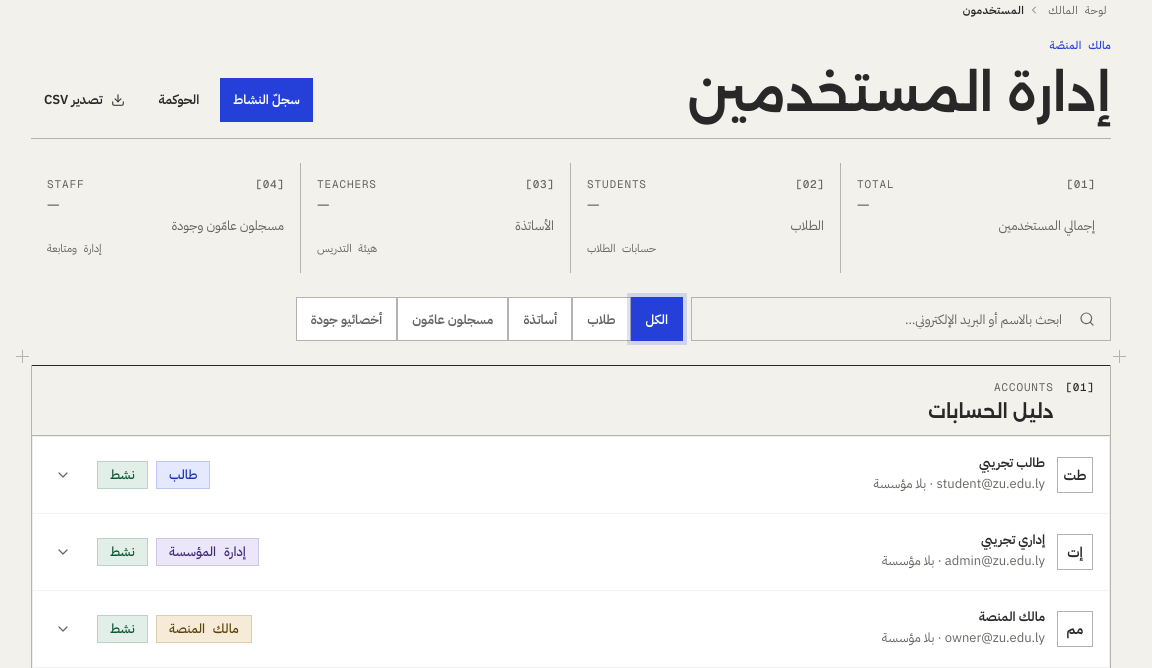
OwnerUsersPage — role picker (r154e) › opens a confirm dialog naming the specific transition on role change
This screenshot has width=1152, height=668.
Click the button named "إجراءات طالب تجريبي": [63, 475] box [41,453,85,497]
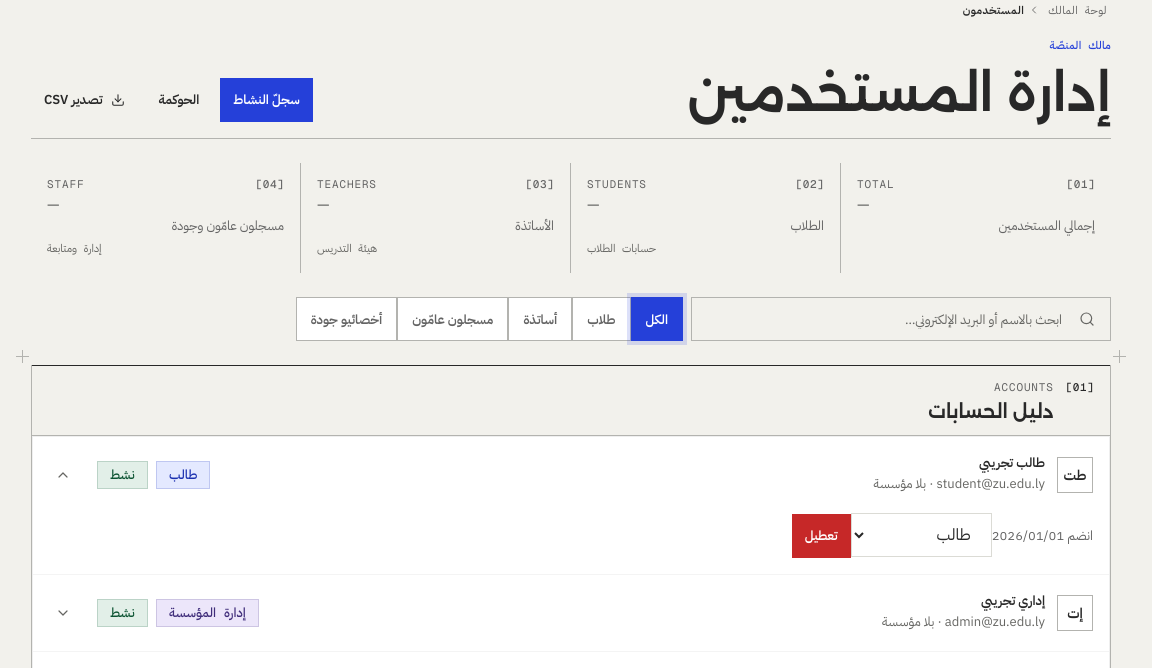
Select "أستاذ" in the dropdown named "دور طالب تجريبي": [921, 535] box [851,513,992,557]
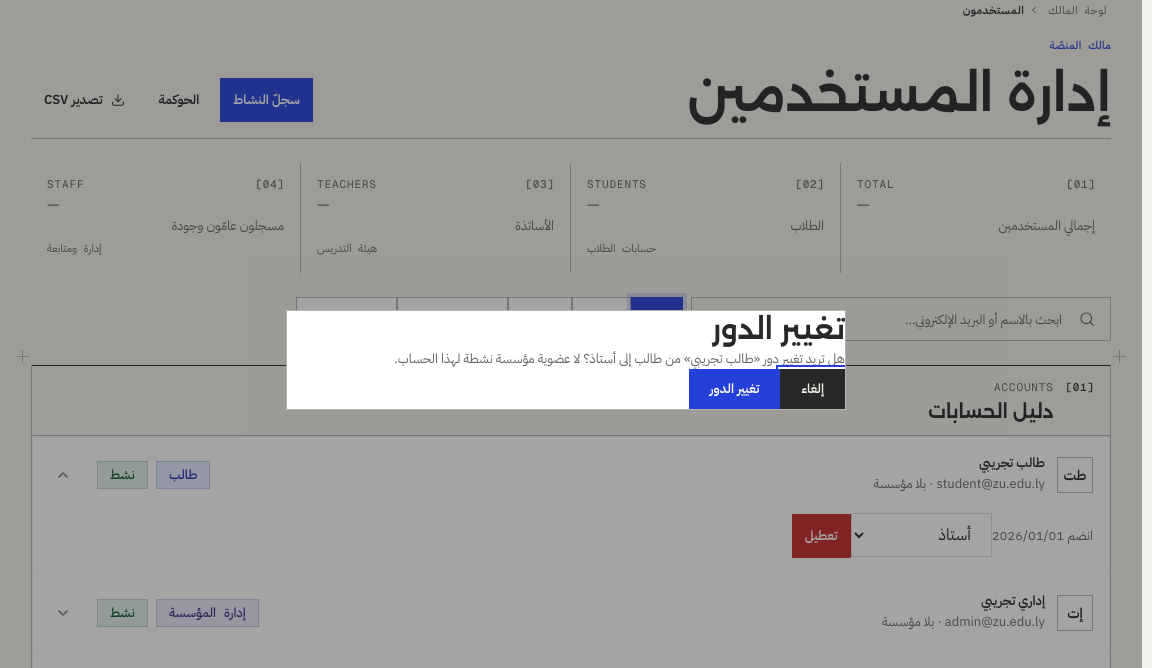
Check: the dialog is shown, box [286,310,846,410]
Check: the text "من طالب إلى أستاذ" is shown, box [394,349,845,368]
